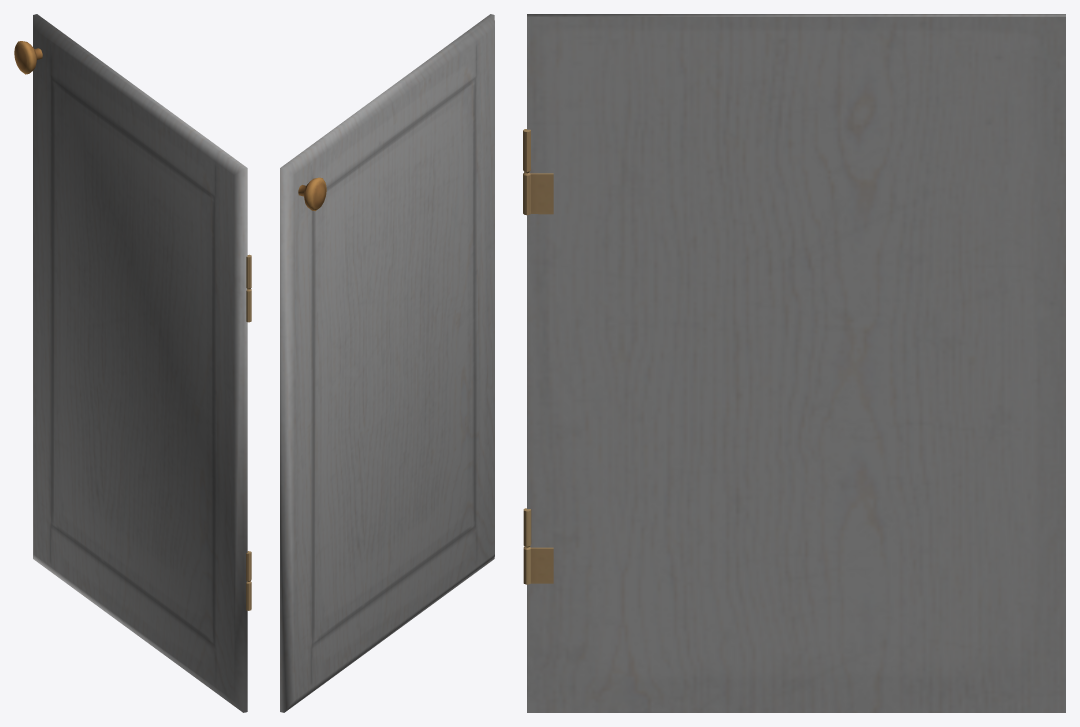
File: SM_KitchenSet_A2_DoorA1.fbx
3 views of the same model, side by side, from view 1: azimuth 30°, elevation 25°; view 2: azimuth 150°, elevation 25°; view 3: azimuth 270°, elevation 25° (orthographic). The views are drawn at different scales.
Visible parts, largest first — view 1: SM_KitchenSet_A2_DoorA1; view 2: SM_KitchenSet_A2_DoorA1; view 3: SM_KitchenSet_A2_DoorA1.
Boxes of the visible parts, <box> form: SM_KitchenSet_A2_DoorA1: <box>14,14,251,712</box>; SM_KitchenSet_A2_DoorA1: <box>280,14,494,712</box>; SM_KitchenSet_A2_DoorA1: <box>523,14,1065,712</box>.
Size of the model in its own units: 4.84 by 50.9 by 72.04.
Materials: 2 (2 with a texture image).
